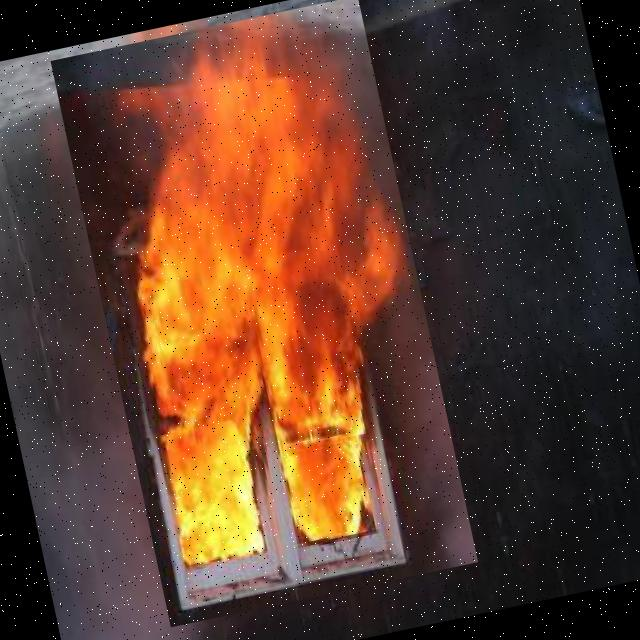fire: (50, 0, 478, 627)
